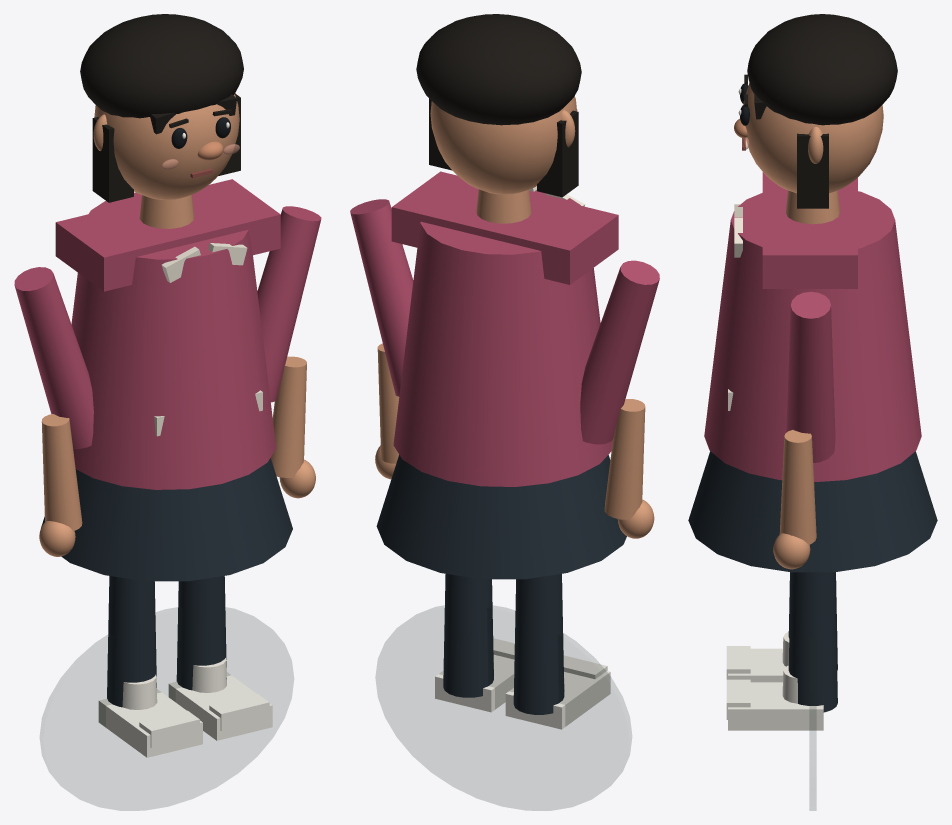
Rendered from customer_07.glb.
3 views of the same model, side by side, from view 1: azimuth 30°, elevation 25°; view 2: azimuth 150°, elevation 25°; view 3: azimuth 270°, elevation 25° (orthographic). The views are drawn at different scales.
Visible parts, largest first — view 1: torso, contact_shadow, skirt, hair_cap, shoulder_line, head, upper_arm_-0.235, upper_arm_0.235, leg_-0.075, leg_0.075, forearm_-0.235, forearm_0.235 (+11 smaller); view 2: torso, contact_shadow, skirt, hair_cap, shoulder_line, upper_arm_-0.235, head, leg_-0.075, upper_arm_0.235, leg_0.075, forearm_-0.235, shoe_-0.075 (+6 smaller); view 3: torso, skirt, hair_cap, shoulder_line, upper_arm_0.235, head, leg_0.075, forearm_0.235, shoe_0.075, side_hair_0.115, shoe_-0.075, neck (+5 smaller).
Boxes of the visible parts, x1=… form: torso: x1=71, y1=192, x2=276, y2=489; contact_shadow: x1=40, y1=607, x2=293, y2=810; skirt: x1=41, y1=458, x2=292, y2=581; hair_cap: x1=80, y1=14, x2=243, y2=118; shoulder_line: x1=55, y1=179, x2=280, y2=291; head: x1=94, y1=94, x2=239, y2=199; upper_arm_-0.235: x1=14, y1=267, x2=93, y2=449; upper_arm_0.235: x1=257, y1=206, x2=321, y2=402; leg_-0.075: x1=107, y1=576, x2=156, y2=707; leg_0.075: x1=176, y1=576, x2=226, y2=690; forearm_-0.235: x1=41, y1=414, x2=82, y2=531; forearm_0.235: x1=270, y1=356, x2=306, y2=477; torso: x1=393, y1=190, x2=612, y2=486; contact_shadow: x1=376, y1=605, x2=631, y2=810; skirt: x1=376, y1=455, x2=626, y2=579; hair_cap: x1=416, y1=14, x2=581, y2=125; shoulder_line: x1=391, y1=171, x2=618, y2=284; upper_arm_-0.235: x1=580, y1=260, x2=659, y2=444; head: x1=430, y1=96, x2=576, y2=194; leg_-0.075: x1=513, y1=574, x2=564, y2=714; upper_arm_0.235: x1=350, y1=199, x2=413, y2=396; leg_0.075: x1=443, y1=574, x2=493, y2=697; forearm_-0.235: x1=604, y1=399, x2=645, y2=519; shoe_-0.075: x1=505, y1=671, x2=610, y2=729; torso: x1=704, y1=191, x2=921, y2=482; skirt: x1=688, y1=451, x2=937, y2=572; hair_cap: x1=747, y1=14, x2=897, y2=125; shoulder_line: x1=762, y1=172, x2=857, y2=288; upper_arm_0.235: x1=786, y1=291, x2=835, y2=462; head: x1=743, y1=83, x2=883, y2=193; leg_0.075: x1=788, y1=572, x2=837, y2=712; forearm_0.235: x1=779, y1=430, x2=816, y2=544; shoe_0.075: x1=728, y1=682, x2=823, y2=730; side_hair_0.115: x1=797, y1=133, x2=828, y2=208; shoe_-0.075: x1=728, y1=648, x2=785, y2=682; neck: x1=785, y1=190, x2=840, y2=224.
Bounding box in the file's own units: 0.623 × 1.53 × 0.4512.
